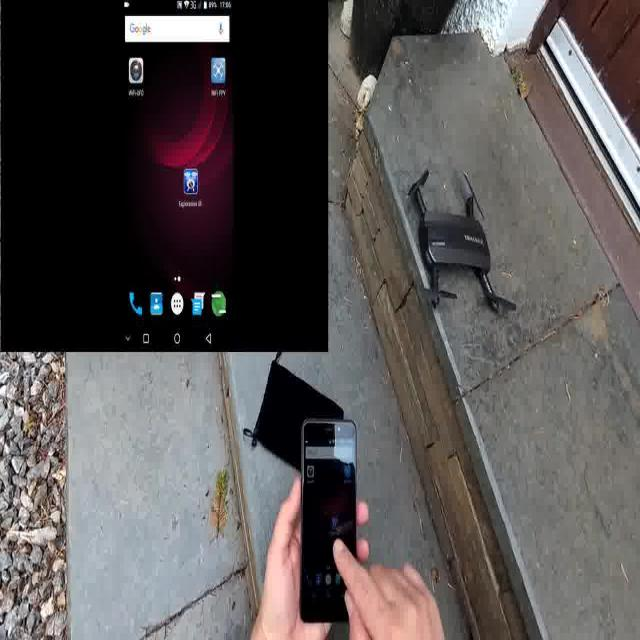drone: (406, 166, 517, 318)
